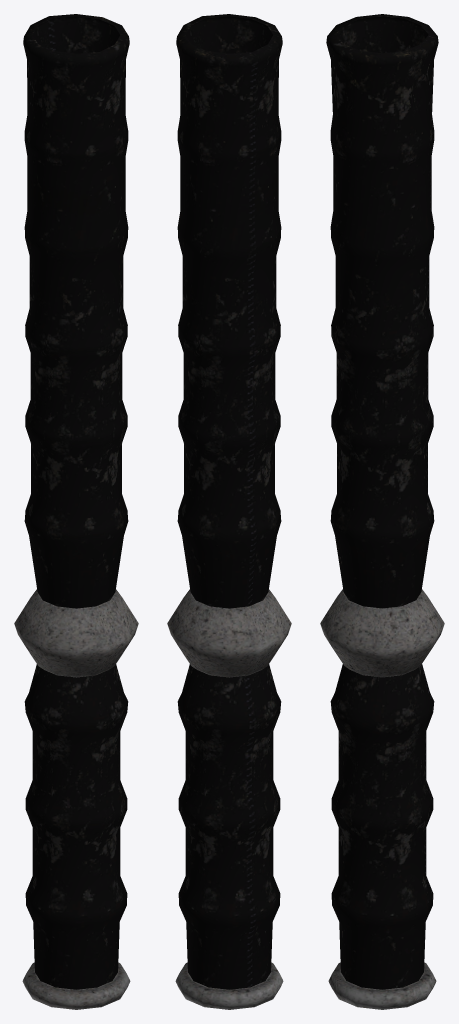
Rendered from wm_nazgul_sword_hilt.fbx.
3 views of the same model, side by side, from view 1: azimuth 30°, elevation 25°; view 2: azimuth 210°, elevation 25°; view 3: azimuth 270°, elevation 25° (orthographic).
Visible parts, largest first — view 1: wm_nazgul_sword_hilt; view 2: wm_nazgul_sword_hilt; view 3: wm_nazgul_sword_hilt.
Boxes of the visible parts, x1=… form: wm_nazgul_sword_hilt: x1=14, y1=14, x2=138, y2=1009; wm_nazgul_sword_hilt: x1=167, y1=14, x2=291, y2=1009; wm_nazgul_sword_hilt: x1=320, y1=14, x2=444, y2=1009.
Bounding box in the file's own units: 0.0407 × 0.0407 × 0.3438.
1 material, 1 textured.
